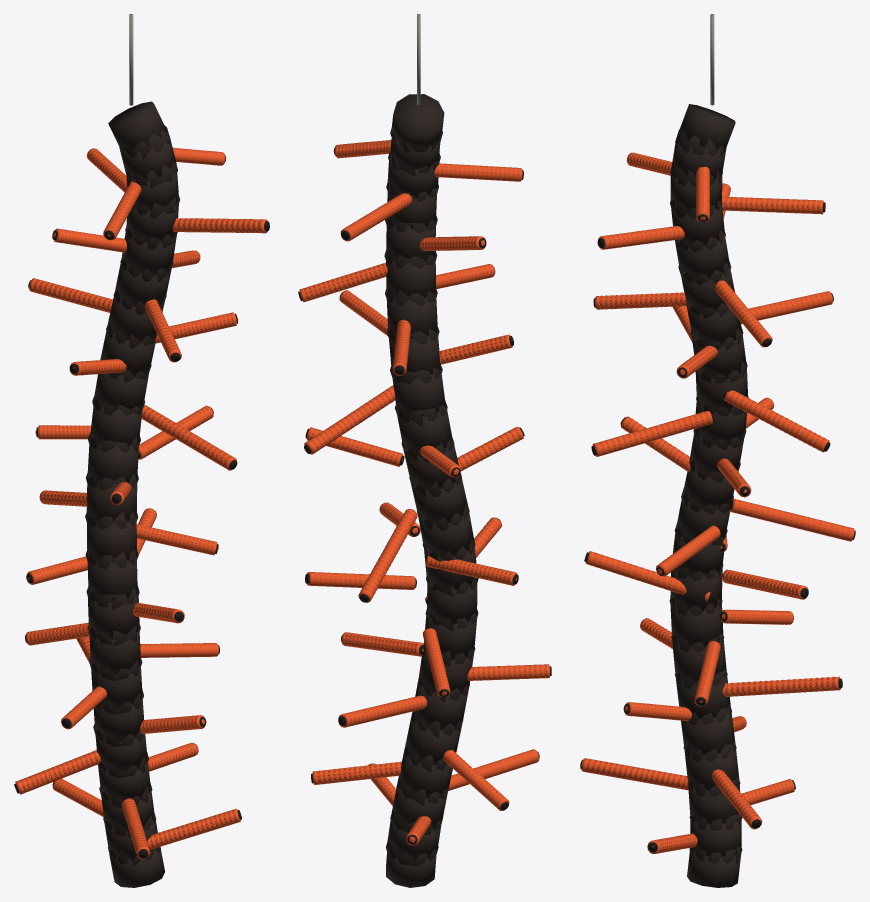
Rendered from hy3d-mov-003.glb.
3 views of the same model, side by side, from view 1: azimuth 30°, elevation 25°; view 2: azimuth 150°, elevation 25°; view 3: azimuth 270°, elevation 25° (orthographic).
Parts seen in each view (by area): view 1: world; view 2: world; view 3: world.
Part boxes in pixels (box(x1,y1,x2,y2)): world: box(14, 14, 269, 887); world: box(298, 14, 551, 887); world: box(580, 14, 855, 887).
Bounding box in the file's own units: 0.4644 × 1.93 × 0.5571.
1 material, 1 textured.
